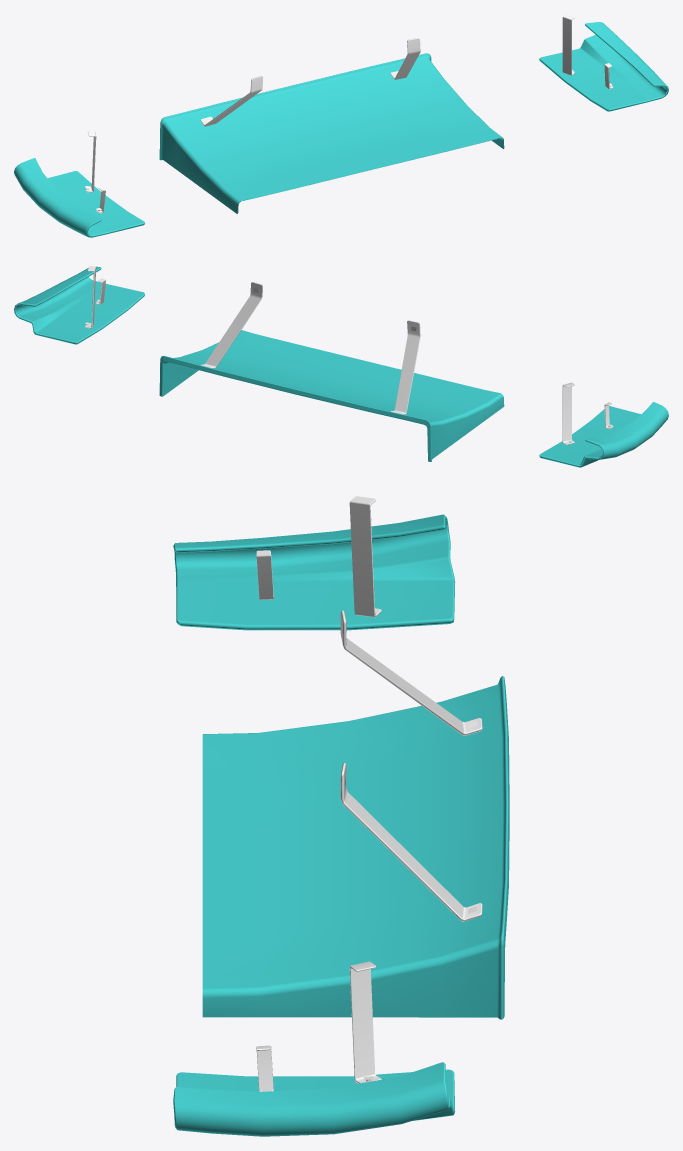
File: Car_Buick_GrandNational_1987_Diffuser_SetEF.fbx
3 renders of one model, top to bottom at view 1: azimuth 30°, elevation 25°; view 2: azimuth 150°, elevation 25°; view 3: azimuth 270°, elevation 25°, orthographic. The views are drawn at different scales.
Visible parts, largest first — view 1: Diffuser 6; view 2: Diffuser 6; view 3: Diffuser 6.
Part boxes in pixels (<box>): Diffuser 6: <box>14,14,668,237</box>; Diffuser 6: <box>14,266,668,467</box>; Diffuser 6: <box>173,496,509,1136</box>.
Size of the model in its own units: 1.89 by 0.2961 by 0.4607.
